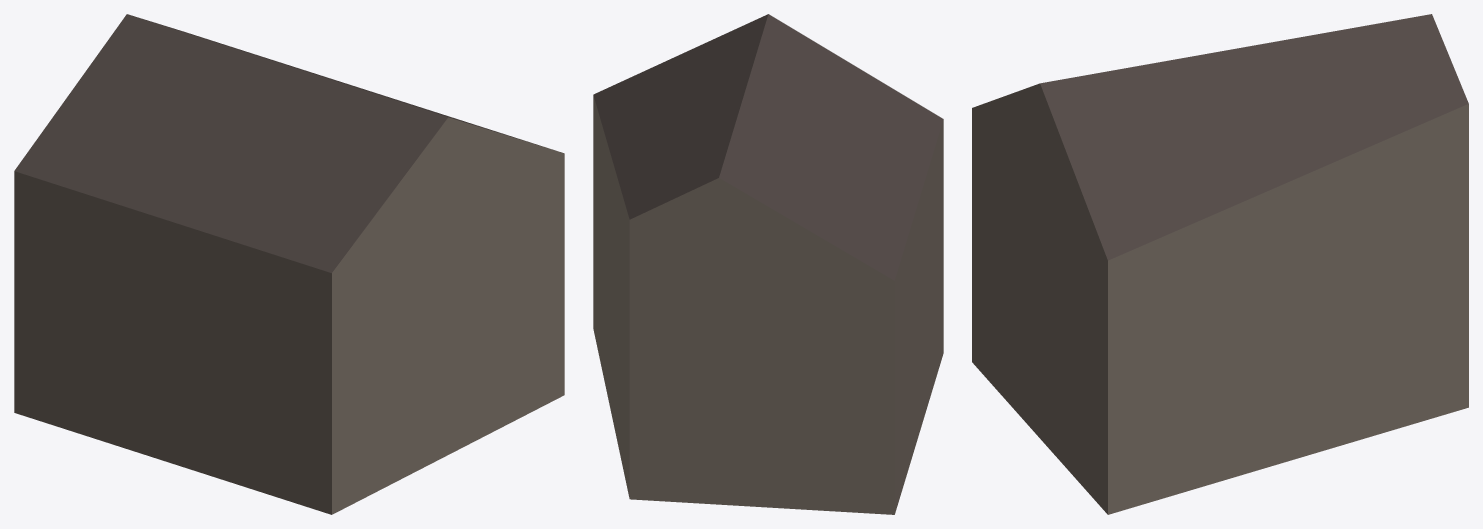
3 renders of one model, left to right at view 1: azimuth 30°, elevation 25°; view 2: azimuth 150°, elevation 25°; view 3: azimuth 270°, elevation 25°, orthographic. The views are drawn at different scales.
Visible parts, largest first — view 1: HP-w1513026723; view 2: HP-w1513026723; view 3: HP-w1513026723.
Boxes of the visible parts, x1,y1,x2,y2 form: HP-w1513026723: (14,14,564,514); HP-w1513026723: (593,14,943,514); HP-w1513026723: (972,14,1468,514).
Size of the model in its own units: 11.2 by 8.38 by 10.62.
